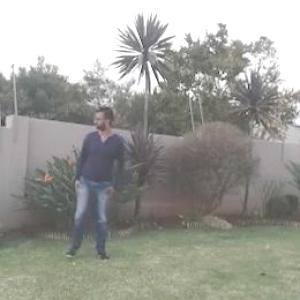follow: (74, 99, 121, 264)
